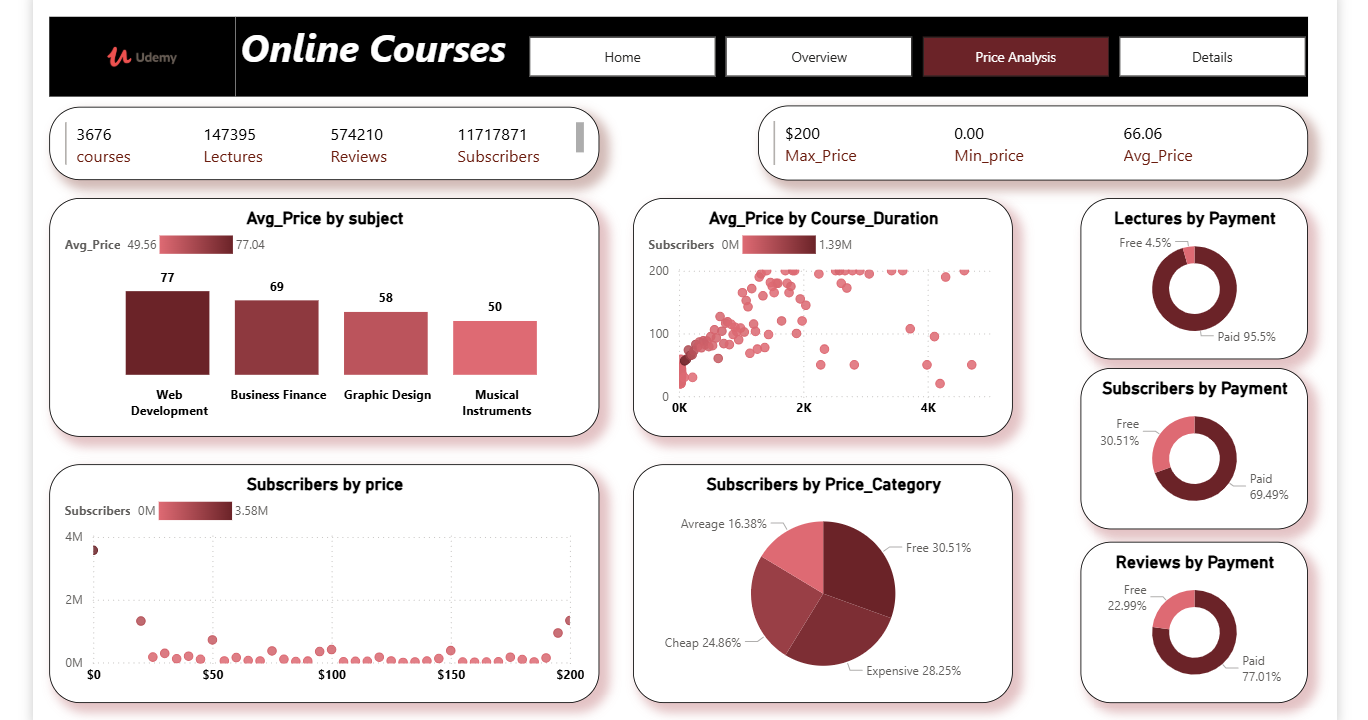

The page's visual inventory and layout, read from the dashboard file:
{"tool":"powerbi","page":{"name":"Price Analysis","canvas":[1280,720],"ordinal":2},"visuals":[{"type":"textbox","box":[199,23.3,1052.5,78.2],"z":0},{"type":"image","box":[16.5,23.3,182.5,78.2],"z":1000},{"type":"multiRowCard","fields":{"Values":["udemy.courses","udemy.Lectures","udemy.Reviews","udemy.Subscribers"]},"box":[16,111.7,539.9,72.4],"z":2000},{"type":"multiRowCard","fields":{"Values":["udemy.Max_Price","udemy.Min_price","udemy.Avg_Price"]},"box":[711.7,110.4,539.9,73.6],"z":3000},{"type":"columnChart","fields":{"Category":["udemy.subject"],"Y":["udemy.Avg_Price"]},"box":[16,201.2,539.9,234.4],"z":4000},{"type":"scatterChart","fields":{"X":["udemy.price"],"Y":["udemy.Subscribers"]},"box":[16,462.6,539.9,234.4],"z":5000},{"type":"scatterChart","fields":{"X":["udemy.Course_Duration"],"Y":["udemy.Avg_Price"]},"box":[589,201.2,373,234.4],"z":6000},{"type":"pieChart","fields":{"Category":["udemy.Price_Category"],"Y":["udemy.Subscribers"]},"box":[589,462.6,373,234.4],"z":7000},{"type":"donutChart","fields":{"Y":["udemy.Lectures"],"Category":["udemy.Payment"]},"box":[1028.2,201.2,223.3,158.3],"z":8000},{"type":"donutChart","fields":{"Y":["udemy.Subscribers"],"Category":["udemy.Payment"]},"box":[1028.2,368.1,223.3,158.3],"z":9000},{"type":"donutChart","fields":{"Y":["udemy.Reviews"],"Category":["udemy.Payment"]},"box":[1028.2,538.7,223.3,158.3],"z":10000},{"type":"pageNavigator","box":[487.1,42.9,764.4,39.3],"z":11000}]}

Visuals, with their boxes on the page's 1280x720 design canvas (x1, y1, x2, y2). These are canvas units, not pixel positions in the 1368x720 screenshot, which may show the page scaled, cropped or inside an application window:
textbox: l=199, t=23, r=1252, b=102
image: l=16, t=23, r=199, b=102
multiRowCard - udemy.courses x udemy.Lectures: l=16, t=112, r=556, b=184
multiRowCard - udemy.Max_Price x udemy.Min_price: l=712, t=110, r=1252, b=184
columnChart - udemy.subject x udemy.Avg_Price: l=16, t=201, r=556, b=436
scatterChart - udemy.price x udemy.Subscribers: l=16, t=463, r=556, b=697
scatterChart - udemy.Course_Duration x udemy.Avg_Price: l=589, t=201, r=962, b=436
pieChart - udemy.Price_Category x udemy.Subscribers: l=589, t=463, r=962, b=697
donutChart - udemy.Lectures x udemy.Payment: l=1028, t=201, r=1252, b=360
donutChart - udemy.Subscribers x udemy.Payment: l=1028, t=368, r=1252, b=526
donutChart - udemy.Reviews x udemy.Payment: l=1028, t=539, r=1252, b=697
pageNavigator: l=487, t=43, r=1252, b=82
